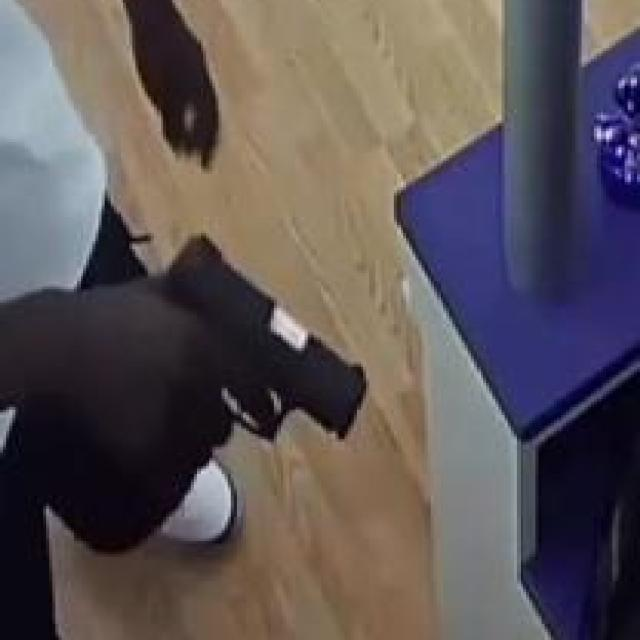Guns: (103, 224, 387, 459)
